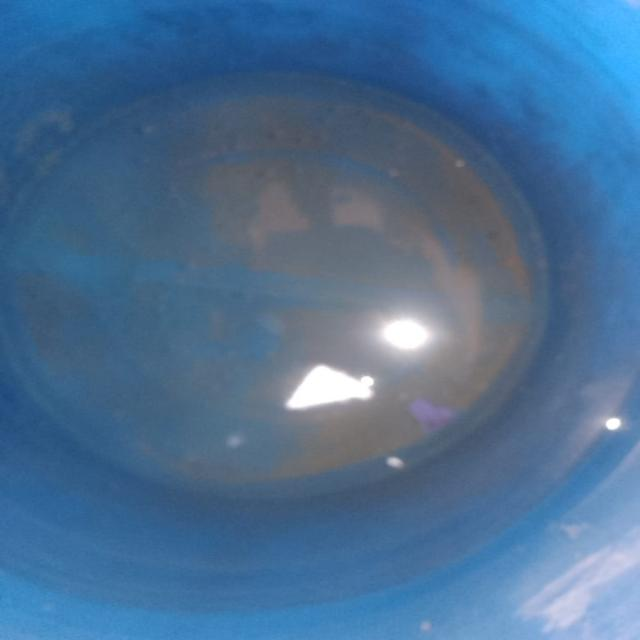litter: (269, 358, 382, 423)
